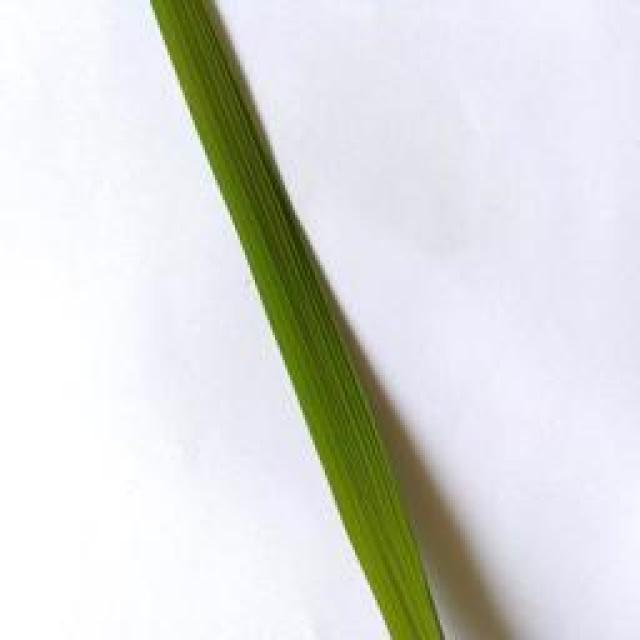Healthy-Plant: (199, 175, 342, 318), (325, 525, 484, 640), (243, 308, 384, 437), (282, 418, 412, 537), (164, 85, 287, 187), (137, 0, 252, 104)
